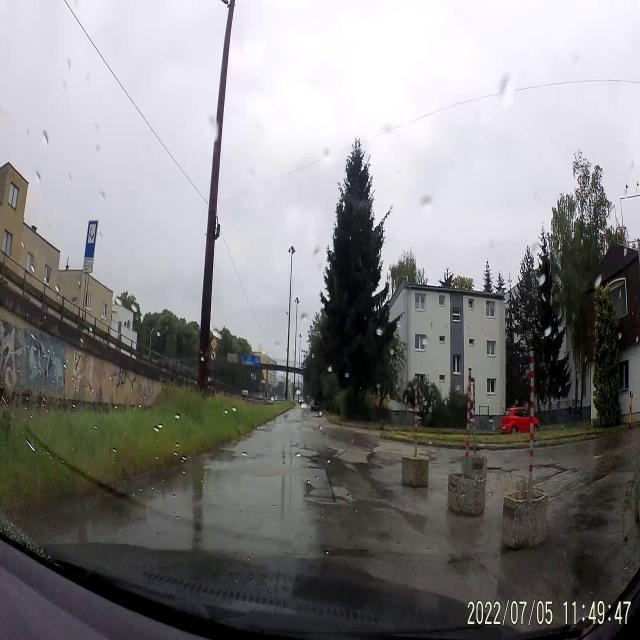Pothole: (304, 481, 352, 512), (298, 451, 322, 468)
